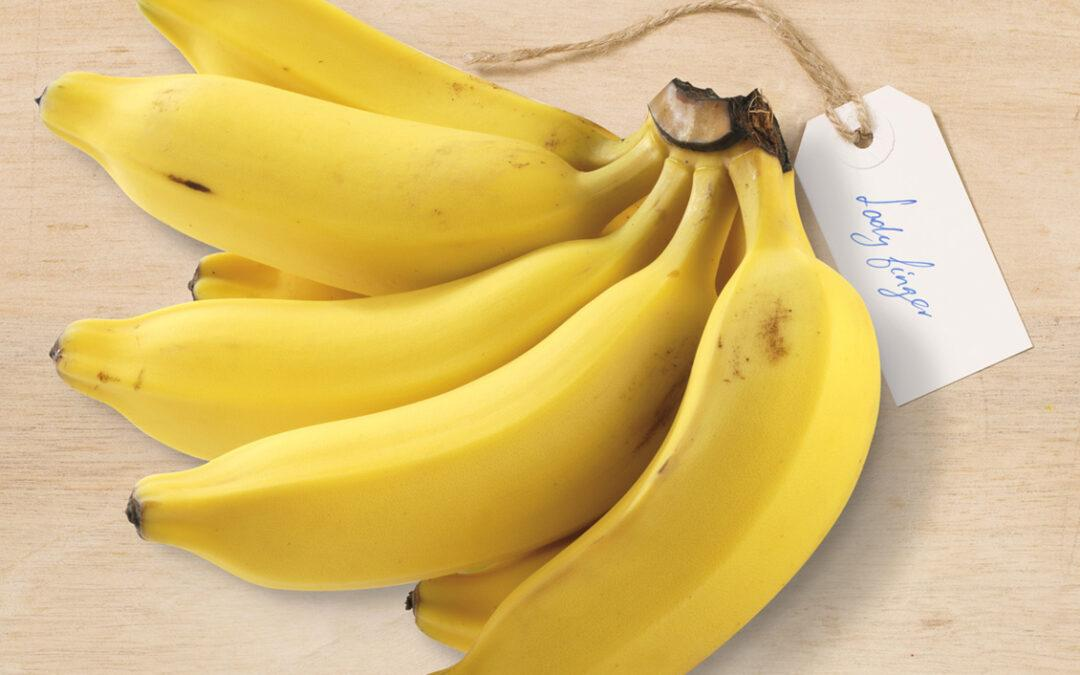chuoi: (36, 59, 882, 665)
